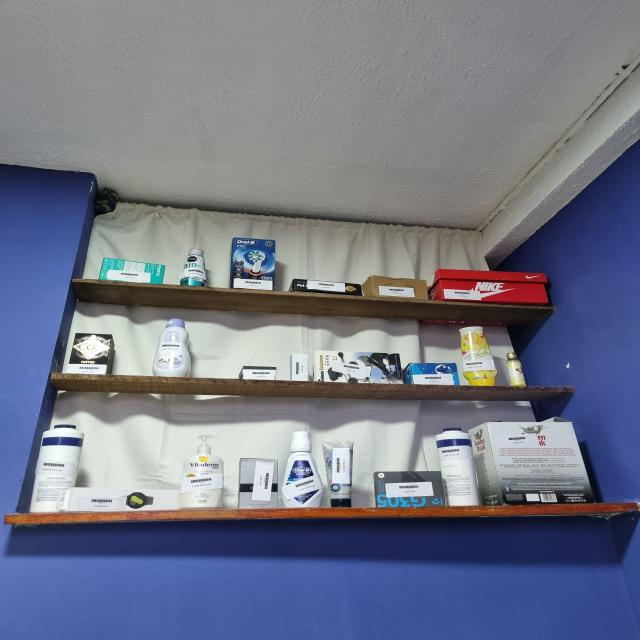botella: (30, 424, 84, 512), (436, 428, 481, 506), (180, 435, 224, 509), (282, 431, 324, 508), (459, 327, 497, 386), (153, 319, 191, 377), (321, 440, 353, 508), (180, 248, 206, 287), (506, 352, 527, 386)
caja: (469, 417, 595, 505), (428, 269, 548, 304), (56, 487, 180, 512), (315, 351, 403, 384), (374, 471, 446, 508), (229, 238, 275, 290), (238, 458, 278, 509), (67, 333, 114, 374), (99, 258, 165, 284), (362, 275, 428, 300), (403, 363, 460, 386), (289, 279, 362, 296), (239, 365, 277, 380), (290, 354, 309, 381)
